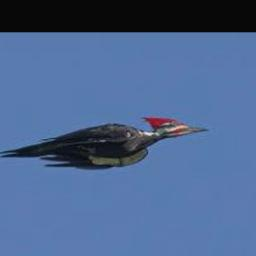Woodpecker: (0, 116, 209, 169)
